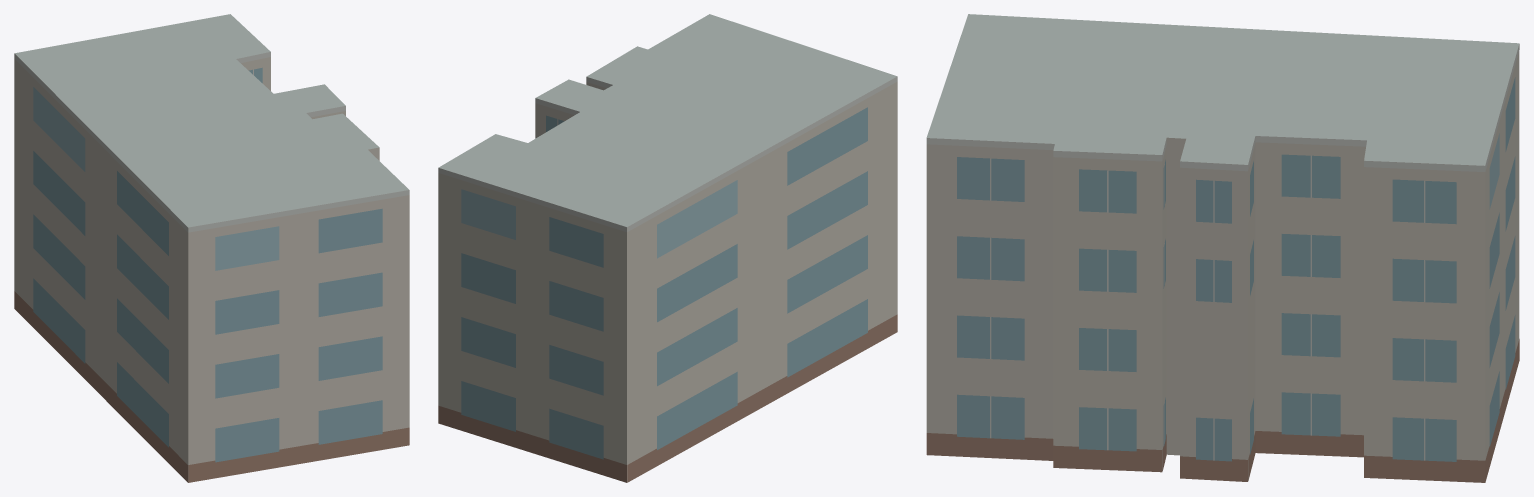
Rendered from survey-upis-32878103.glb.
3 renders of one model, left to right at view 1: azimuth 30°, elevation 25°; view 2: azimuth 150°, elevation 25°; view 3: azimuth 270°, elevation 25°, orthographic. The views are drawn at different scales.
Visible parts, largest first — view 1: survey-upis-32878103.tmp; view 2: survey-upis-32878103.tmp; view 3: survey-upis-32878103.tmp.
Part boxes in pixels (box(x1,y1,x2,y2)): survey-upis-32878103.tmp: box(14, 14, 409, 482); survey-upis-32878103.tmp: box(438, 14, 897, 482); survey-upis-32878103.tmp: box(926, 14, 1519, 482).
Size of the model in its own units: 12.54 by 12.2 by 20.69.
